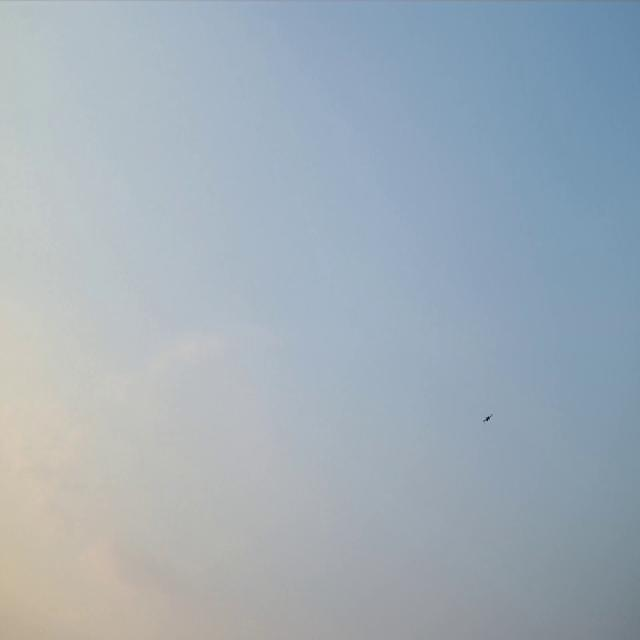UAV: (482, 414, 492, 424)
